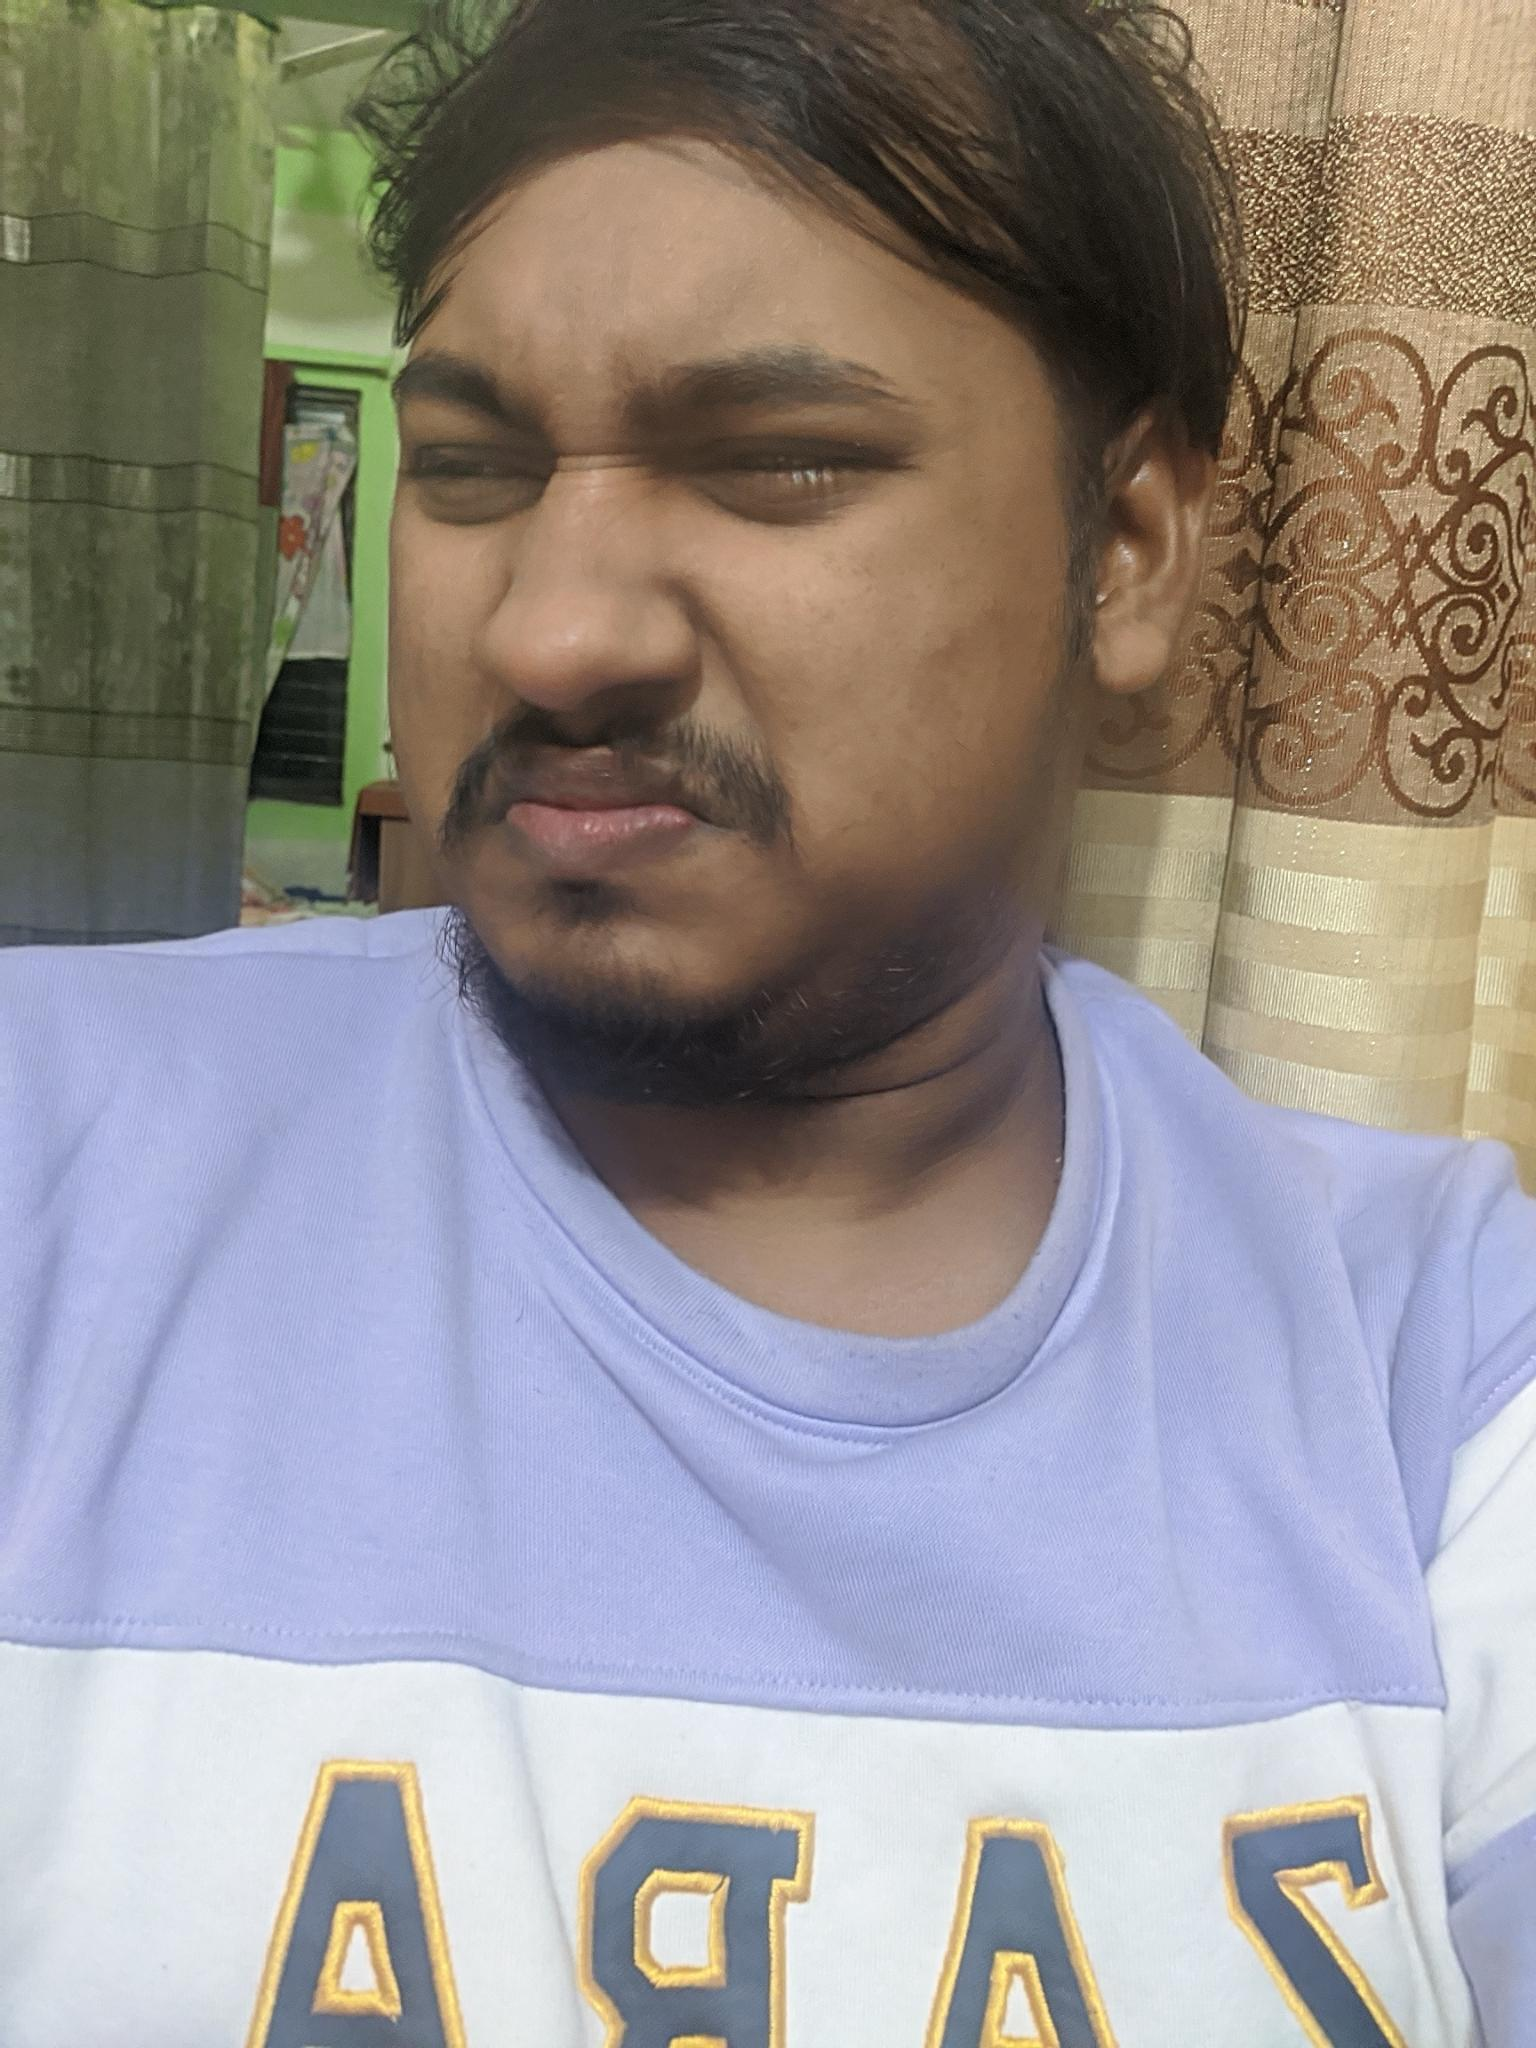Disgust: (326, 248, 999, 1021)
